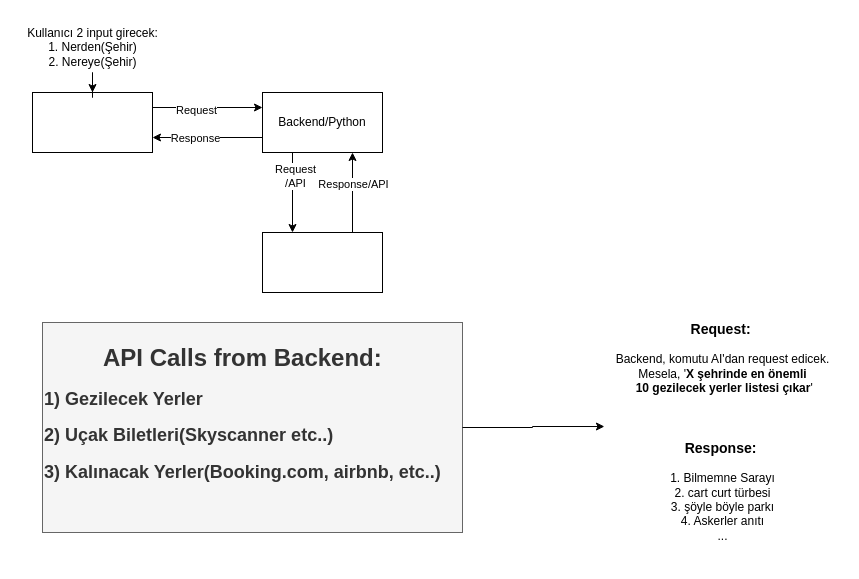
The diagram is 859 pixels wide and 579 high, and some of its shapes have lost their labels. Each missing label, with the centre of its shape:
AI/ChatGPT, Claude, Gemini etc..: the point at 322,262
Frontend/React: the point at 92,122
